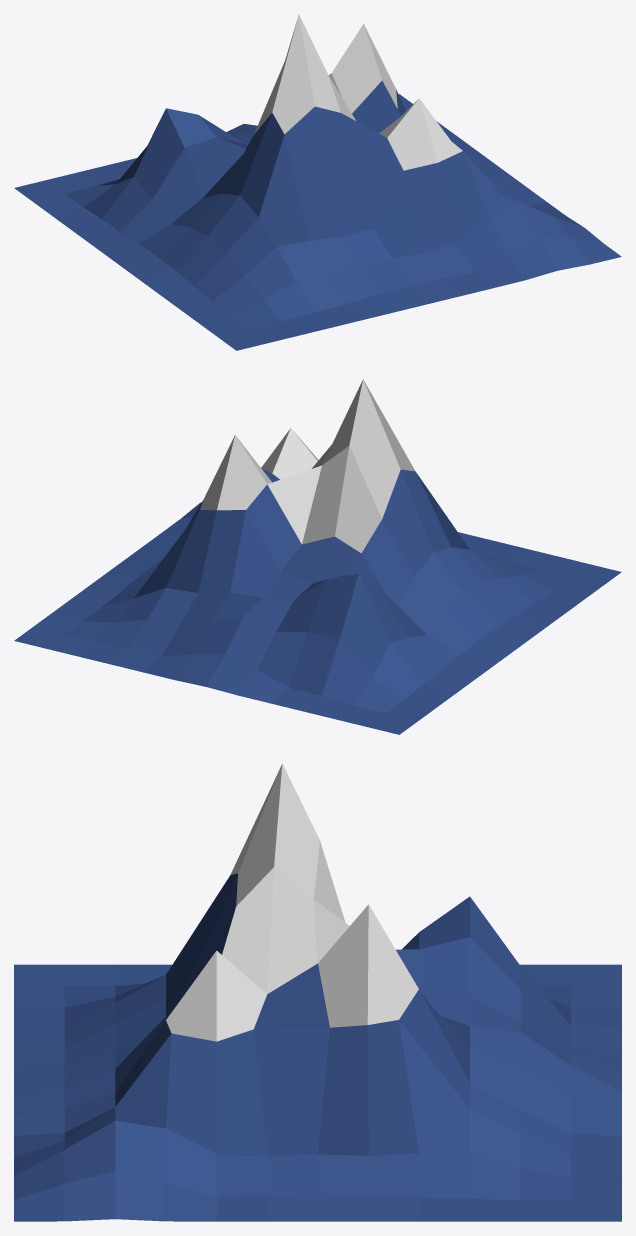
Rendered from moutain.fbx.
The picture shows the model from 3 angles, top to bottom: view 1: azimuth 30°, elevation 25°; view 2: azimuth 150°, elevation 25°; view 3: azimuth 270°, elevation 25°; orthographic projection. The views are drawn at different scales.
Visible parts, largest first — view 1: nui; view 2: nui; view 3: nui.
Part boxes in pixels (left/top/right/bottom): nui: left=14, top=14, right=621, bottom=350; nui: left=14, top=379, right=621, bottom=734; nui: left=14, top=763, right=621, bottom=1221.
Bounding box in the file's own units: 200 × 112 × 200.
